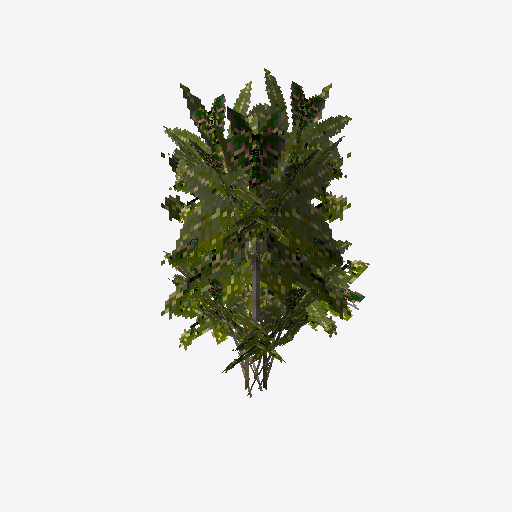
A Minecraft block model of 11 cuboids, rendered isometrically (azimuth 45°, elevation 35.3°) with the resource pack's own textures.
Visible parts, largest first — element 11, element 10, element 3, element 1, element 8, element 6, element 4, element 2, element 9, element 5, element 7.
Part boxes in pixels (left/top/right/bottom): element 11: left=161, top=83, right=350, bottom=389; element 10: left=161, top=83, right=350, bottom=389; element 3: left=245, top=68, right=351, bottom=259; element 1: left=164, top=81, right=257, bottom=272; element 8: left=163, top=251, right=285, bottom=385; element 6: left=222, top=261, right=344, bottom=395; element 4: left=163, top=126, right=285, bottom=260; element 2: left=222, top=136, right=344, bottom=266; element 9: left=250, top=252, right=369, bottom=330; element 5: left=164, top=241, right=262, bottom=397; element 7: left=249, top=239, right=351, bottom=379.
Bounding box in the file's own units: 28 × 28.93 × 28.